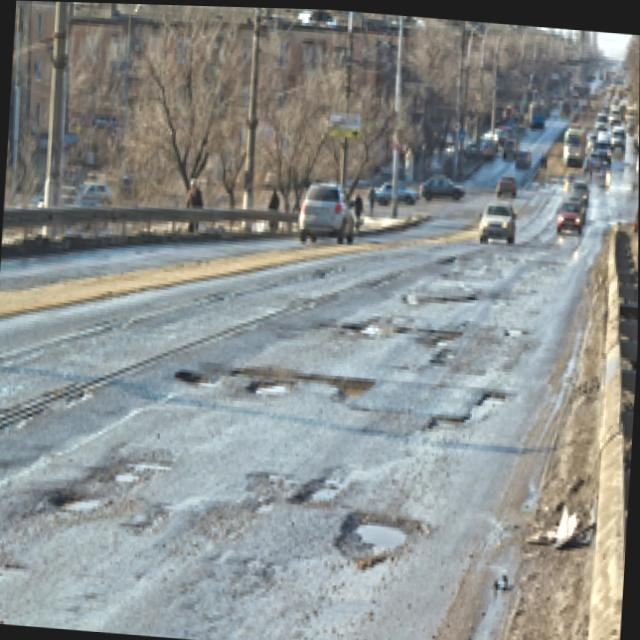pothole: (334, 518, 419, 571)
